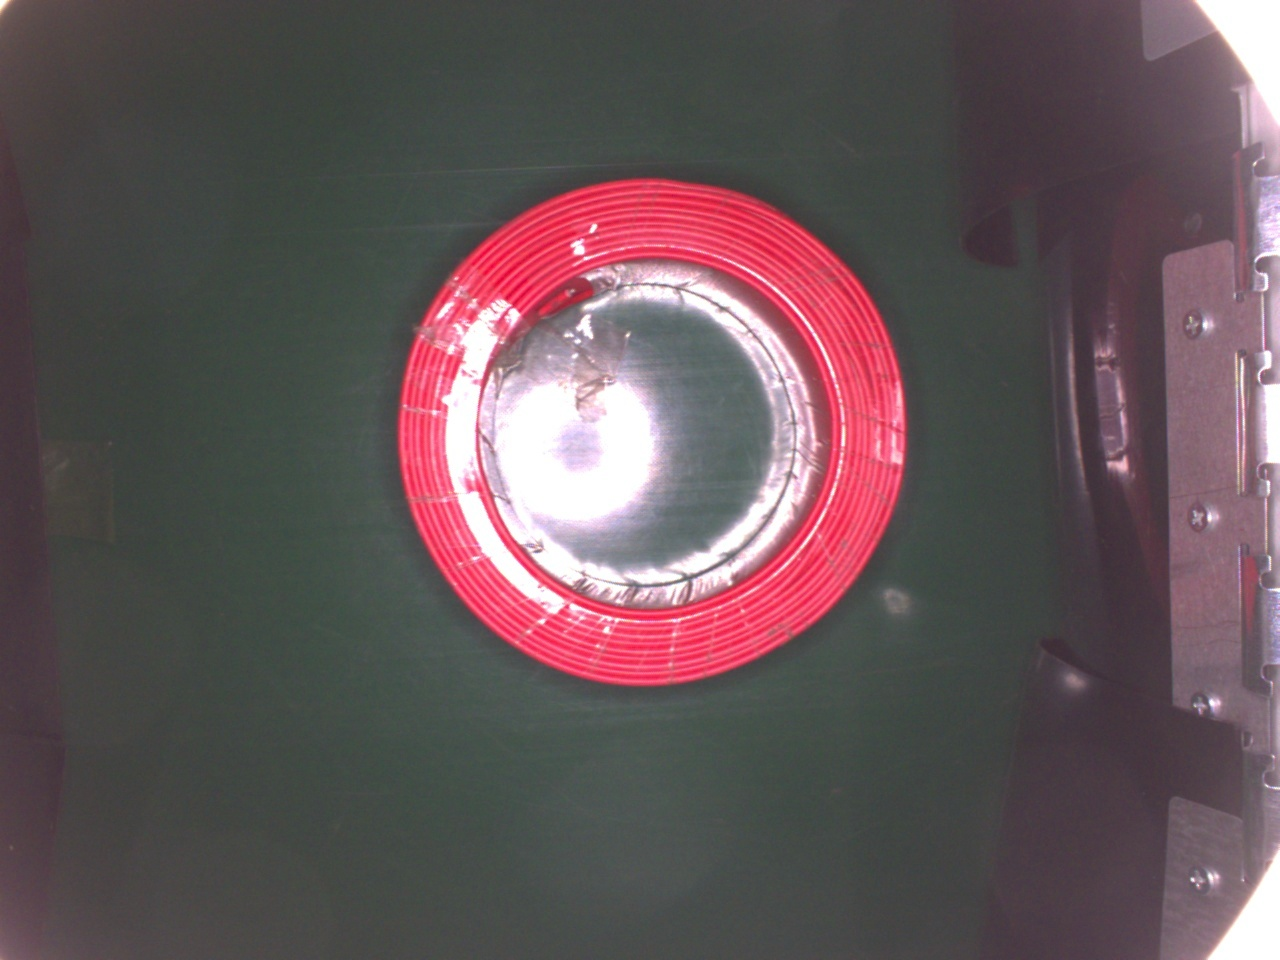red: (394, 175, 914, 693)
